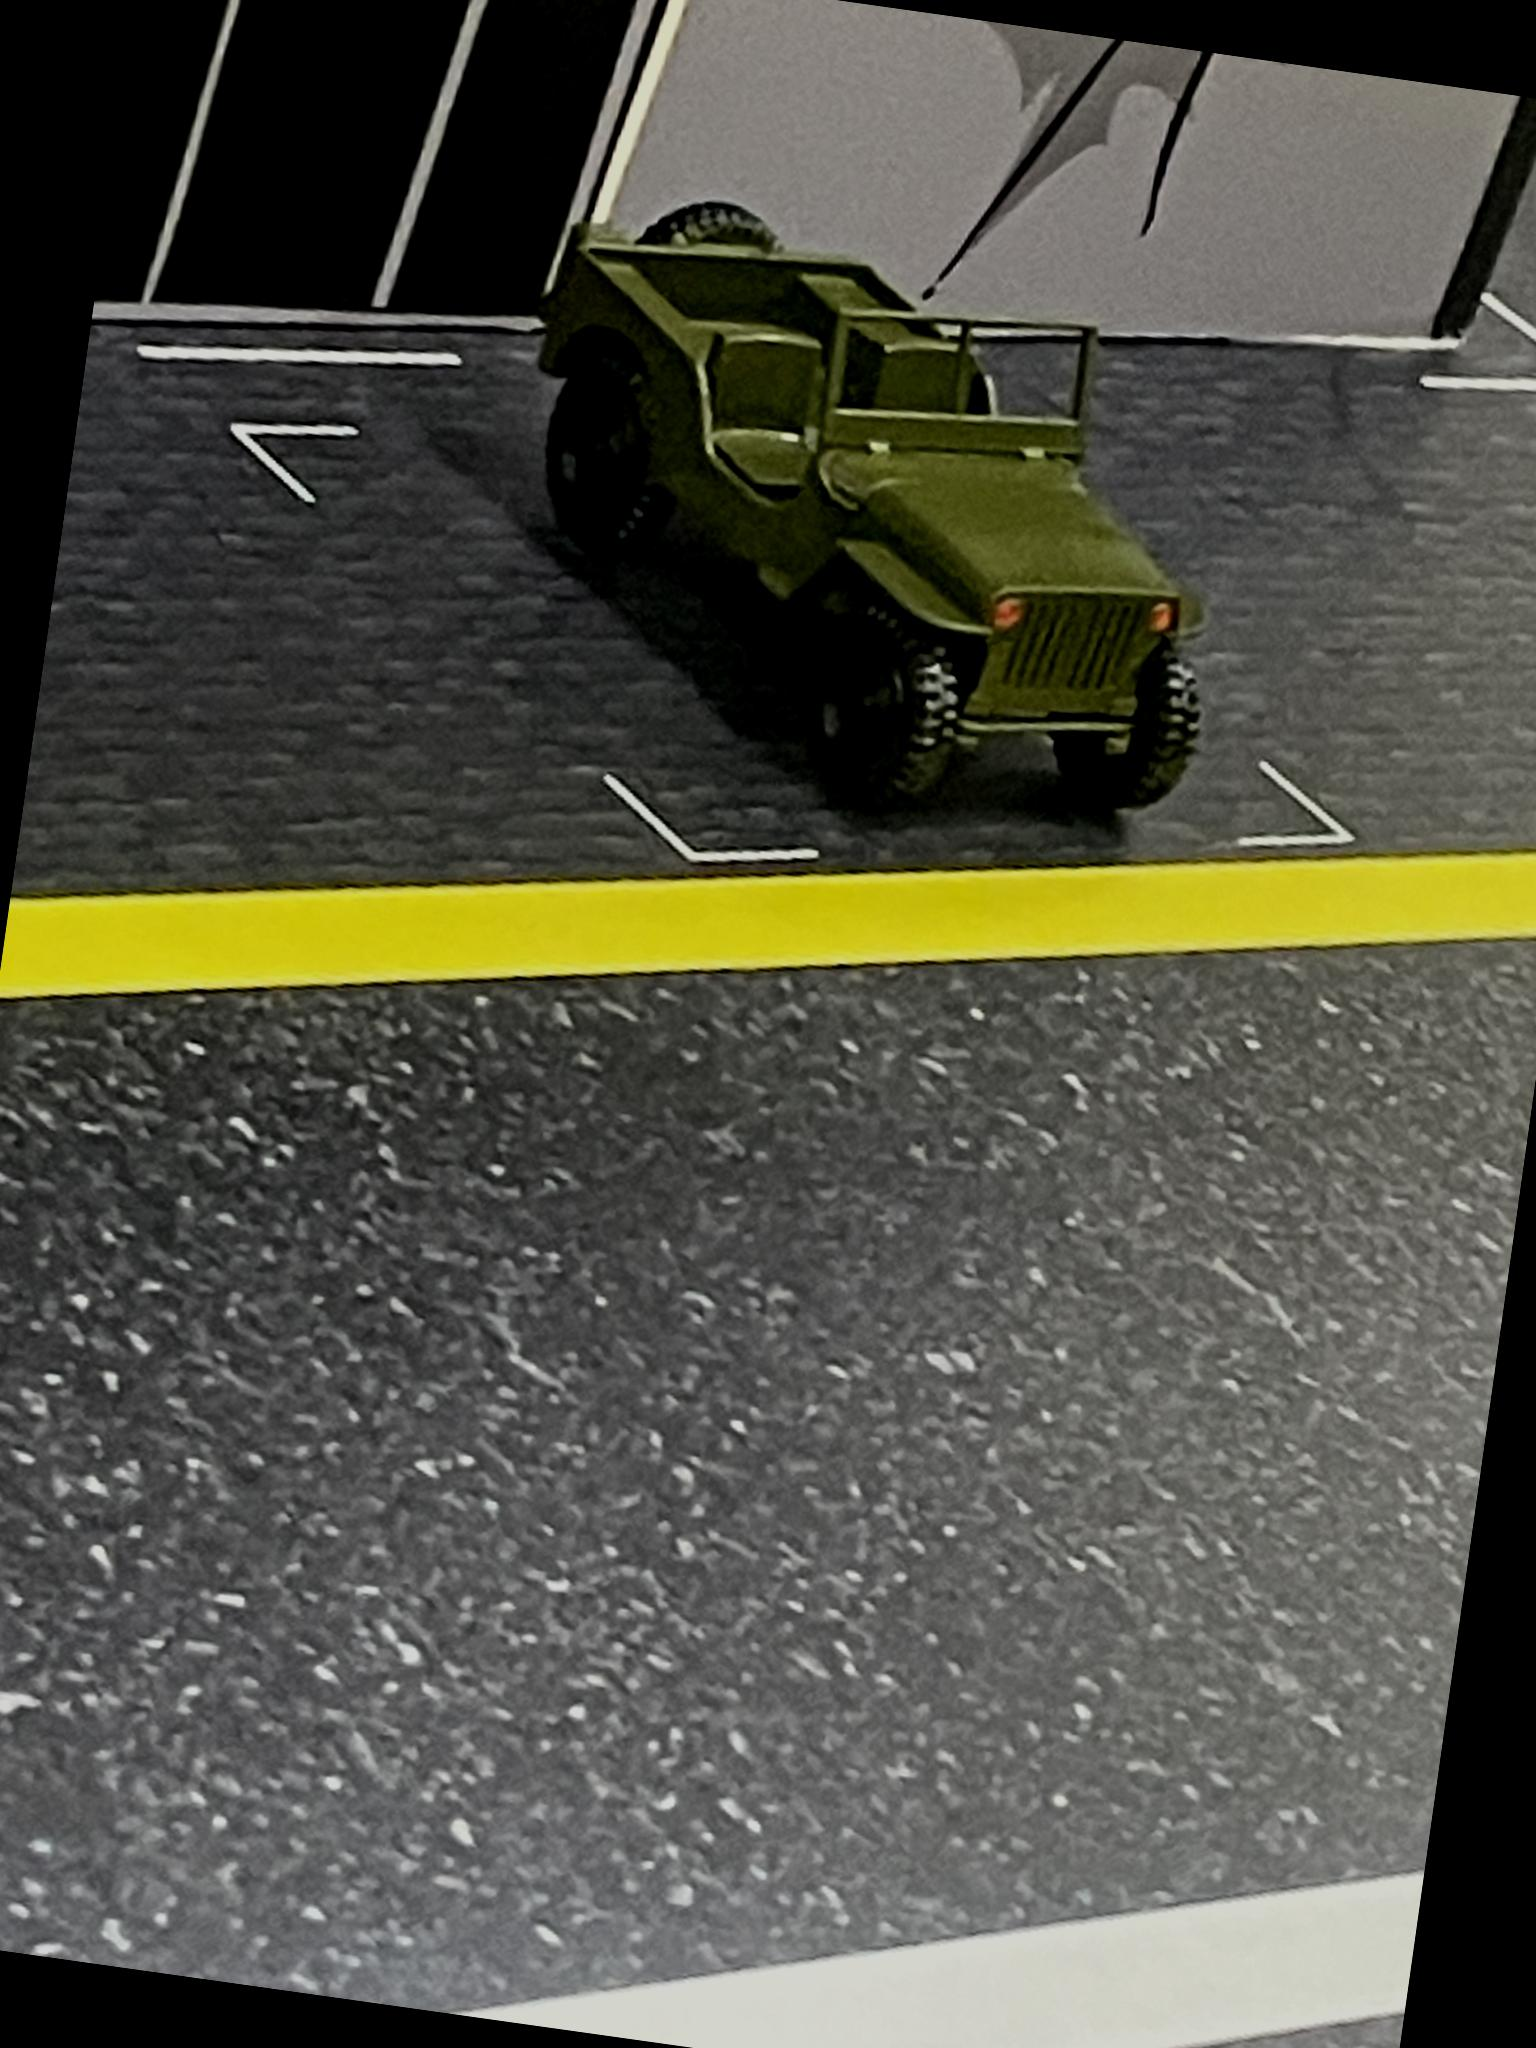Car: (461, 169, 1268, 848)
